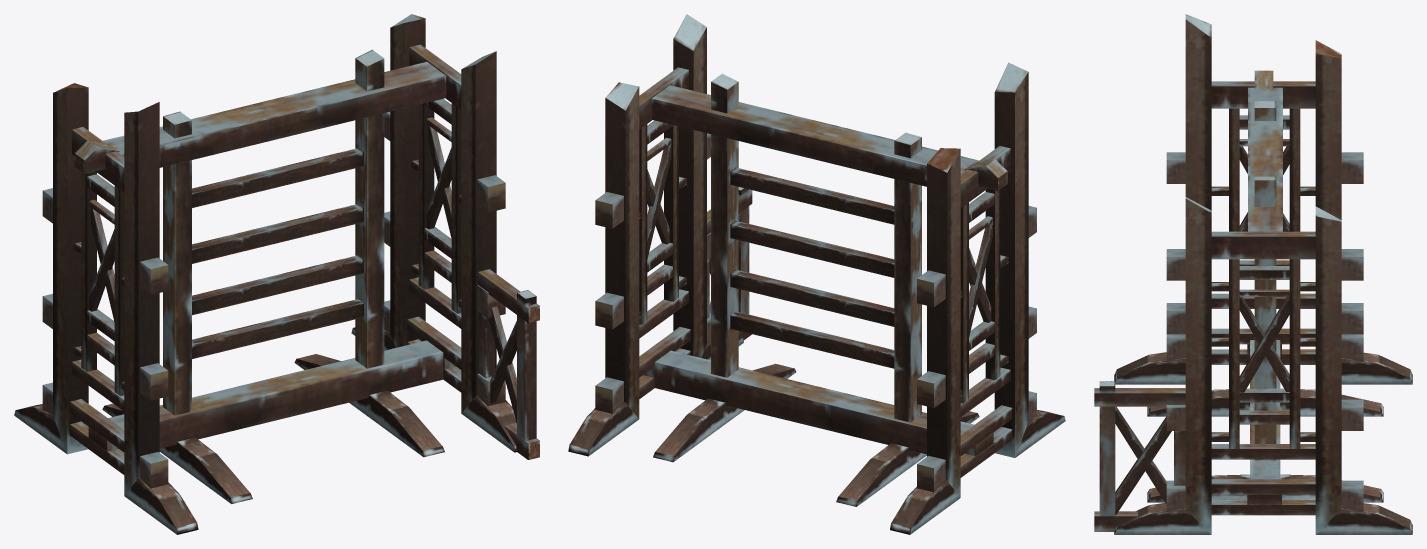
Rendered from yw_xuesebingfeng_mujia08.FBX.
3 renders of one model, left to right at view 1: azimuth 30°, elevation 25°; view 2: azimuth 150°, elevation 25°; view 3: azimuth 270°, elevation 25°, orthographic. The views are drawn at different scales.
Parts seen in each view (by area): view 1: yw_xuesebingfeng_mujia08; view 2: yw_xuesebingfeng_mujia08; view 3: yw_xuesebingfeng_mujia08.
Boxes of the visible parts, box(x1,y1,x2,y2) form: yw_xuesebingfeng_mujia08: box(14, 14, 539, 534); yw_xuesebingfeng_mujia08: box(568, 14, 1065, 534); yw_xuesebingfeng_mujia08: box(1094, 14, 1412, 534).
Bounding box in the file's own units: 517 × 527 × 417.
